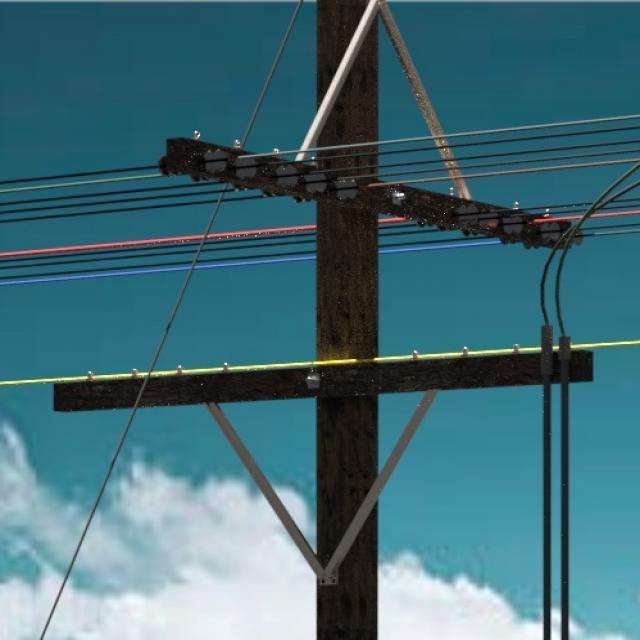crossarm: (171, 134, 574, 252), (208, 386, 439, 586), (292, 0, 475, 199), (52, 351, 592, 409)
pole: (315, 0, 381, 640)
